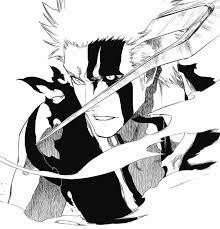Ichigo: (59, 1, 172, 138)
